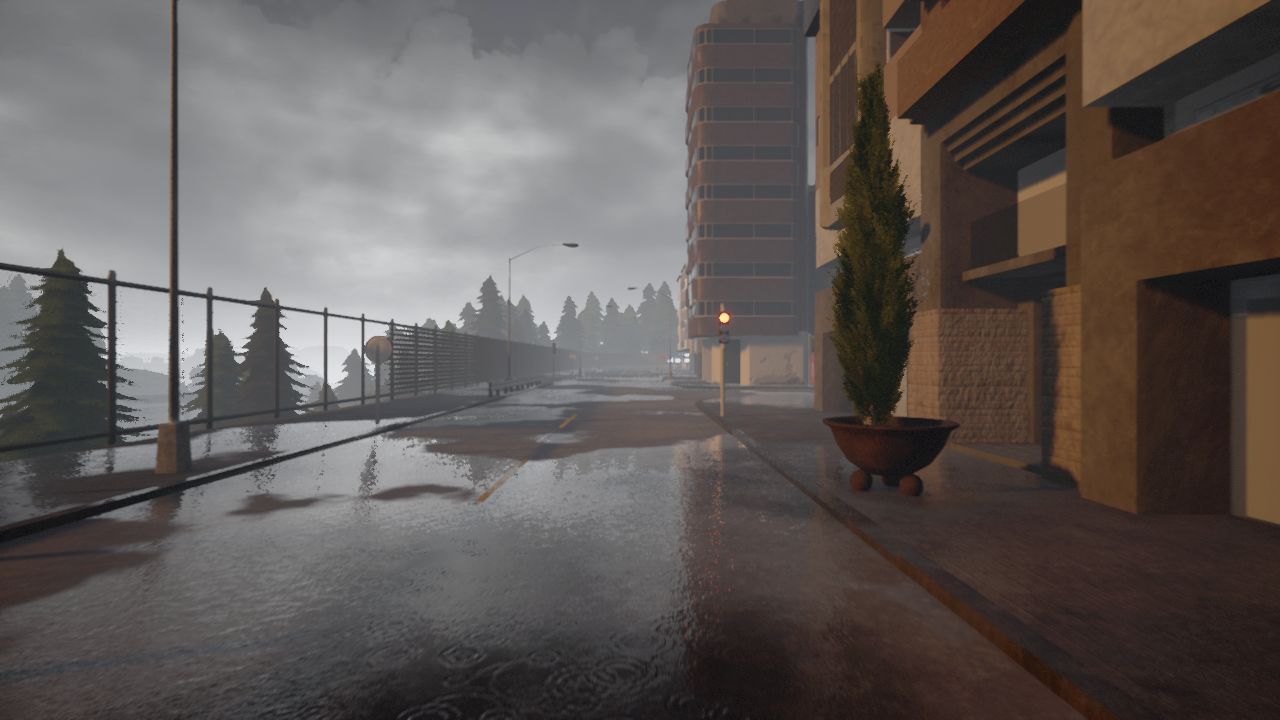red: (717, 312, 730, 344)
